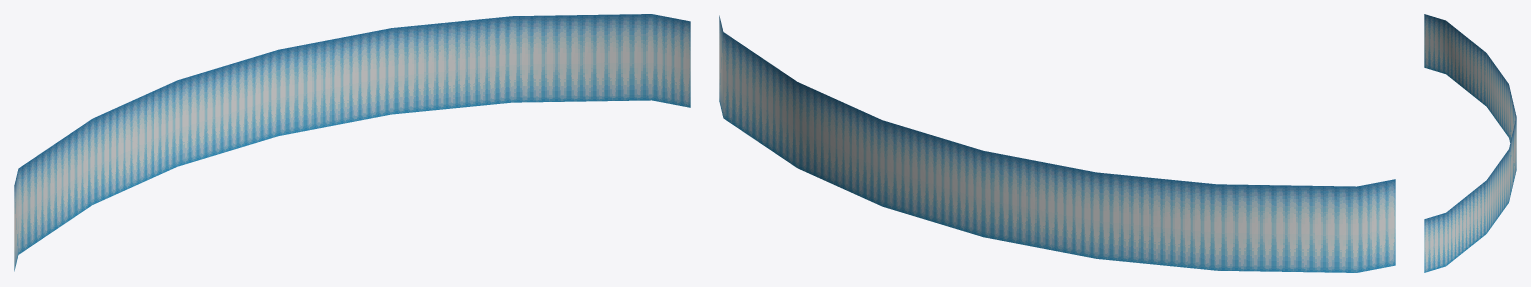
Rendered from yt1300_engine_s01_on_l0.fbx.
3 views of the same model, side by side, from view 1: azimuth 30°, elevation 25°; view 2: azimuth 150°, elevation 25°; view 3: azimuth 270°, elevation 25° (orthographic). The views are drawn at different scales.
Visible parts, largest first — view 1: mesh_node; view 2: mesh_node; view 3: mesh_node.
Part boxes in pixels (box(x1,y1,x2,y2)): mesh_node: box(14, 14, 690, 271); mesh_node: box(719, 15, 1395, 272); mesh_node: box(1424, 14, 1516, 272).
Bounding box in the file's own units: 17.69 × 2.16 × 3.35.
1 material, 1 textured.
